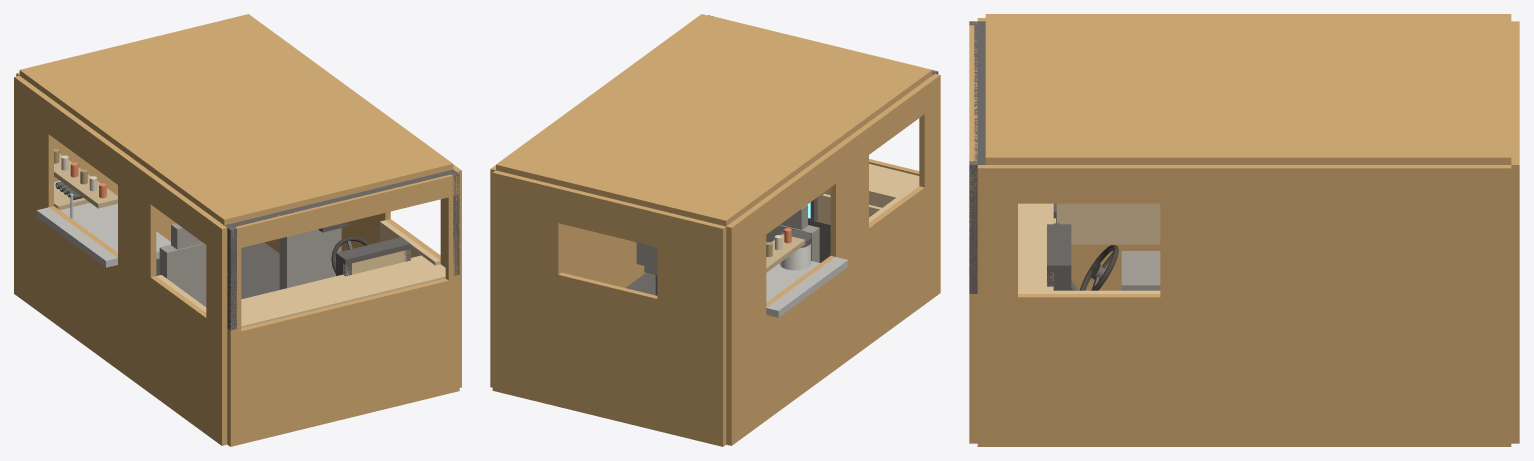
Rendered from pocha-interior.glb.
3 views of the same model, side by side, from view 1: azimuth 30°, elevation 25°; view 2: azimuth 150°, elevation 25°; view 3: azimuth 270°, elevation 25° (orthographic). The views are drawn at different scales.
Parts seen in each view (by area): view 1: pocha_interior; view 2: pocha_interior; view 3: pocha_interior, steering_wheel.
Boxes of the visible parts, x1,y1,x2,y2 form: pocha_interior: (14,14,461,446); pocha_interior: (490,14,940,446); pocha_interior: (969,14,1519,446); steering_wheel: (1079,245,1118,290).
Size of the model in its own units: 2.31 by 1.95 by 3.4.
